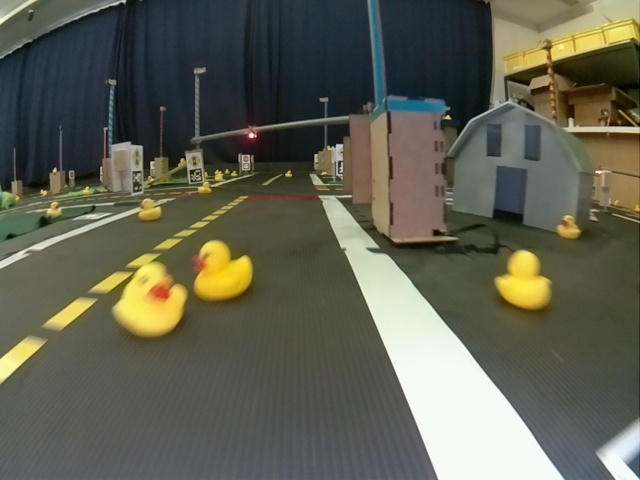Duckie: (114, 268, 187, 336), (192, 239, 252, 299), (496, 251, 550, 308), (559, 215, 578, 239), (140, 198, 161, 219), (47, 202, 61, 214), (199, 182, 209, 192), (286, 170, 293, 179)
QR code: (189, 168, 201, 183), (133, 175, 142, 193)
Signal sign: (133, 149, 142, 167), (189, 155, 201, 167)
Traffic light: (247, 128, 256, 139)
